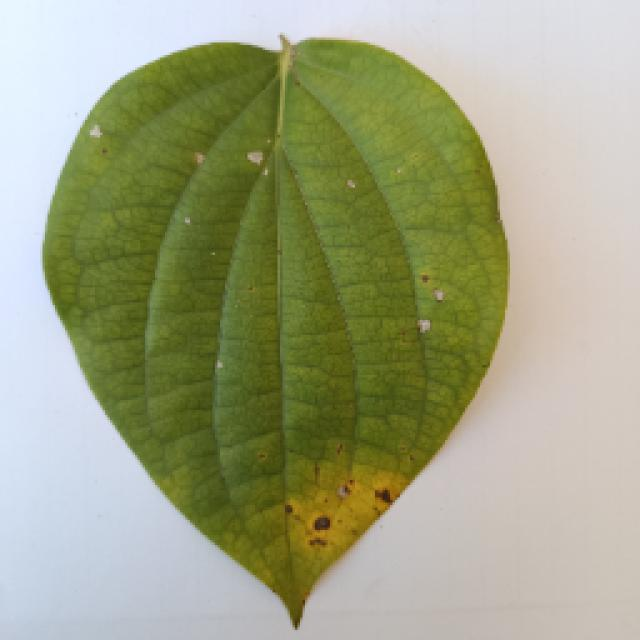slow-decline: (38, 30, 502, 628)
